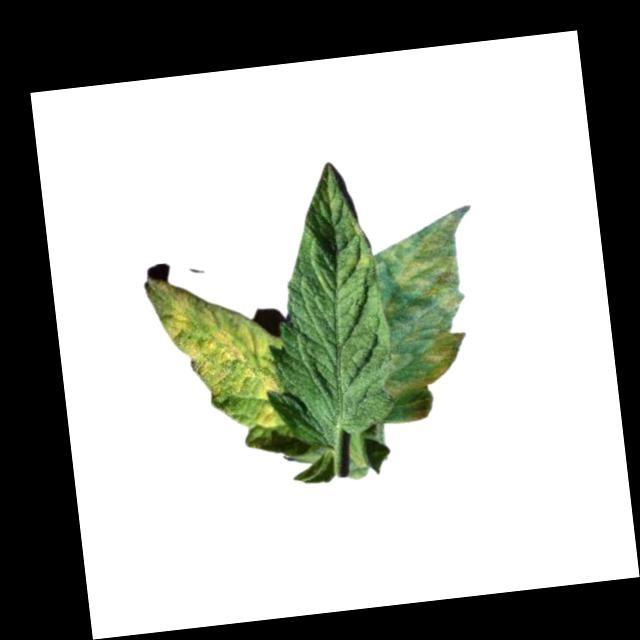Leaf_Mold: (368, 203, 491, 423), (142, 260, 292, 440), (344, 221, 373, 266)
